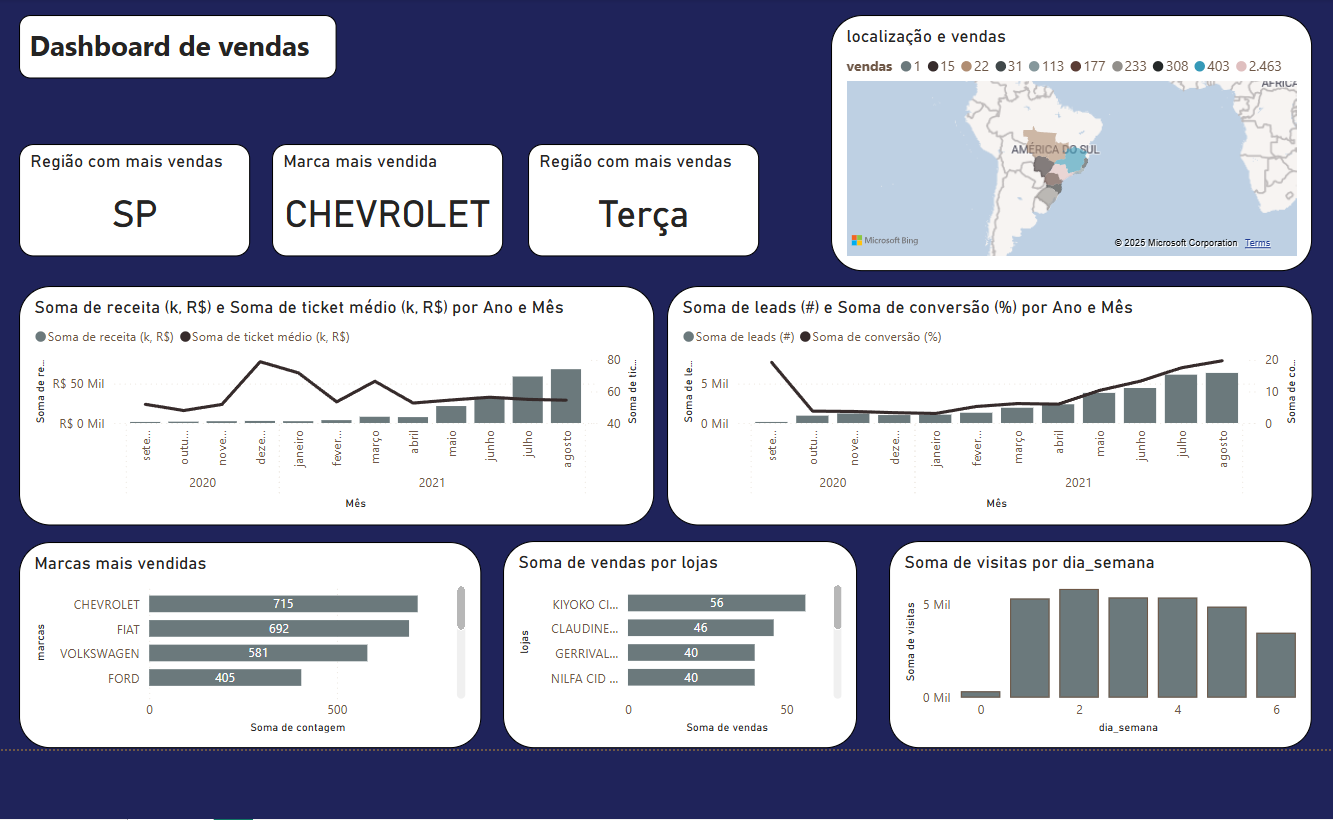

The dashboard page shown, as its layout file describes it:
{"tool":"powerbi","page":{"name":"Página 1","canvas":[1280,720],"ordinal":0},"visuals":[{"type":"lineStackedColumnComboChart","fields":{"Category":["Tabela.mês.Variation.Hierarquia de datas.Ano","Tabela.mês.Variation.Hierarquia de datas.Mês"],"Y2":["Sum(Tabela.ticket médio (k, R$))"],"Y":["Sum(Tabela.receita (k, R$))"]},"box":[18.5,275.3,609.8,229.5],"z":0},{"type":"lineStackedColumnComboChart","fields":{"Y":["Sum(Tabela.leads (#))"],"Category":["Tabela.mês.Variation.Hierarquia de datas.Ano","Tabela.mês.Variation.Hierarquia de datas.Mês"],"Y2":["Sum(Tabela.conversão (%))"]},"box":[640,275.3,619.6,229.5],"z":1000},{"type":"filledMap","fields":{"Category":["Tabela (2).localização"],"Series":["Tabela (2).vendas"]},"box":[797.6,15.6,462,246.1],"z":2000},{"type":"columnChart","fields":{"Category":["Pico de visitas.dia_semana"],"Y":["Sum(Pico de visitas.visitas)"]},"box":[854,520.4,405.6,199.4],"z":3000},{"type":"barChart","title":"Marcas mais vendidas","fields":{"Category":["Venda de veiculos.marcas"],"Y":["Sum(Venda de veiculos.contagem)"]},"box":[18.5,521.3,443.5,198.4],"z":4000},{"type":"barChart","fields":{"Category":["Lojas que mais vendem.lojas"],"Y":["Sum(Lojas que mais vendem.vendas)"]},"box":[483.4,520.4,340.4,199.4],"z":5000},{"type":"textbox","box":[18.5,15.6,305.4,61.3],"z":6000},{"type":"card","title":"Região com mais vendas","fields":{"Values":["Max(Localização e vendas.estado)"]},"box":[18.5,139.1,221.8,108],"z":7000},{"type":"card","title":"Marca mais vendida","fields":{"Values":["Min(Venda de veiculos.marcas)"]},"box":[261.6,139.1,221.8,108],"z":8000},{"type":"card","title":"Região com mais vendas","fields":{"Values":["Max(Pico de visitas.Dia da semana)"]},"box":[506.7,139.1,221.8,108],"z":9000}]}

Visuals, with their boxes in screenshot pixels (x1, y1, x2, y2):
lineStackedColumnComboChart - Tabela.mês.Variation.Hierarquia de datas.Ano x Tabela.mês.Variation.Hierarquia de datas.Mês: {"x1": 26, "y1": 286, "x2": 652, "y2": 522}
lineStackedColumnComboChart - Sum(Tabela.leads (#)) x Tabela.mês.Variation.Hierarquia de datas.Ano: {"x1": 664, "y1": 286, "x2": 1301, "y2": 522}
filledMap - Tabela (2).localização x Tabela (2).vendas: {"x1": 826, "y1": 19, "x2": 1301, "y2": 272}
columnChart - Pico de visitas.dia_semana x Sum(Pico de visitas.visitas): {"x1": 884, "y1": 538, "x2": 1301, "y2": 743}
"Marcas mais vendidas" barChart: {"x1": 26, "y1": 539, "x2": 481, "y2": 743}
barChart - Lojas que mais vendem.lojas x Sum(Lojas que mais vendem.vendas): {"x1": 503, "y1": 538, "x2": 853, "y2": 743}
textbox: {"x1": 26, "y1": 19, "x2": 340, "y2": 82}
"Região com mais vendas" card: {"x1": 26, "y1": 146, "x2": 254, "y2": 257}
"Marca mais vendida" card: {"x1": 276, "y1": 146, "x2": 503, "y2": 257}
"Região com mais vendas" card: {"x1": 527, "y1": 146, "x2": 755, "y2": 257}
